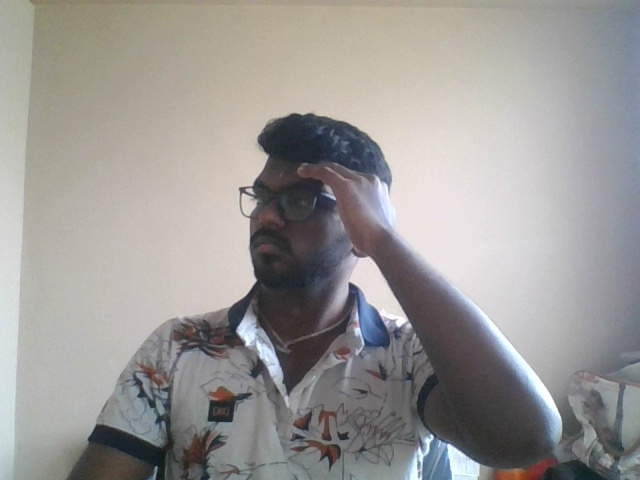Hello: (292, 146, 412, 289)
